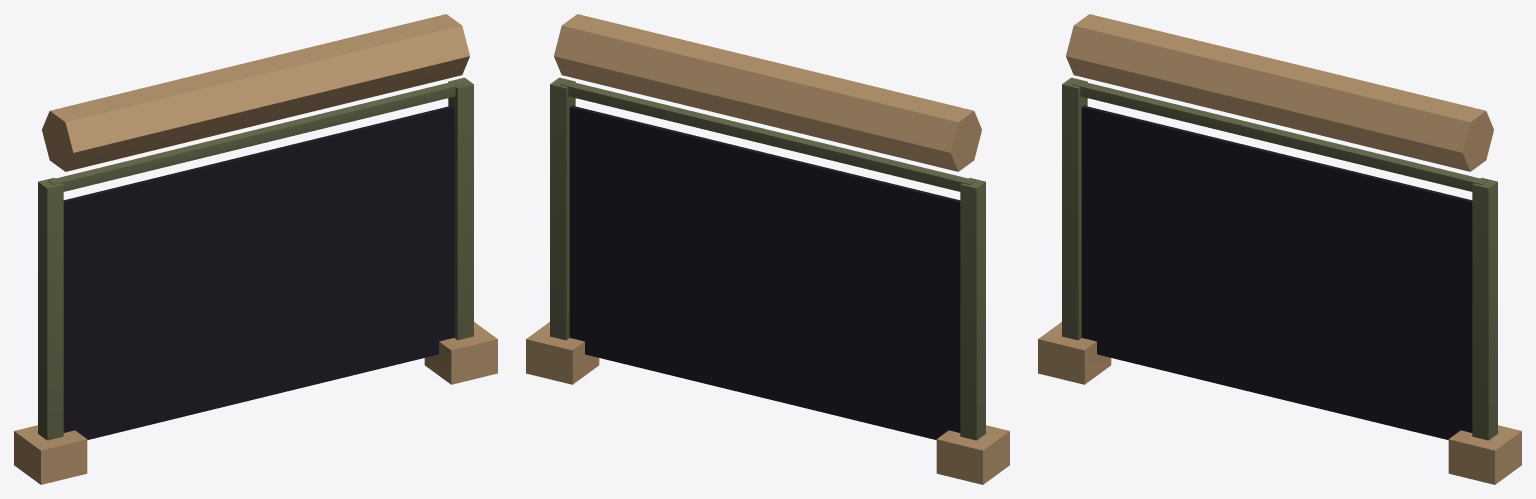
3 views of the same model, side by side, from view 1: azimuth 30°, elevation 25°; view 2: azimuth 150°, elevation 25°; view 3: azimuth 330°, elevation 25° (orthographic).
Parts seen in each view (by area): view 1: body_pal_uiDark, body_pal_khaki, body_pal_olive; view 2: body_pal_uiDark, body_pal_khaki, body_pal_olive; view 3: body_pal_uiDark, body_pal_khaki, body_pal_olive.
Part boxes in pixels (x1,y1,x2,y2): body_pal_uiDark: (63,105,454,439); body_pal_khaki: (14,14,497,484); body_pal_olive: (38,77,473,440); body_pal_uiDark: (569,105,960,439); body_pal_khaki: (526,14,1009,484); body_pal_olive: (550,77,985,440); body_pal_uiDark: (1081,105,1472,439); body_pal_khaki: (1038,14,1521,484); body_pal_olive: (1062,77,1497,440).
Bounding box in the file's own units: 3.34 × 2.45 × 0.4.
